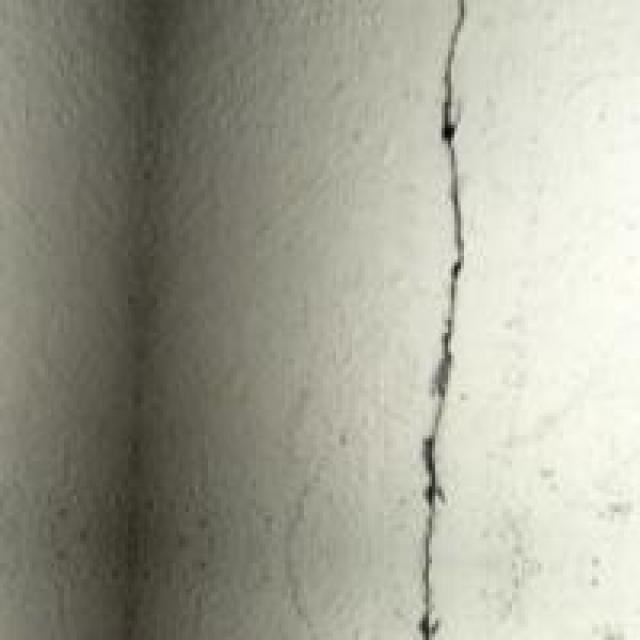crack: (394, 0, 499, 637)
